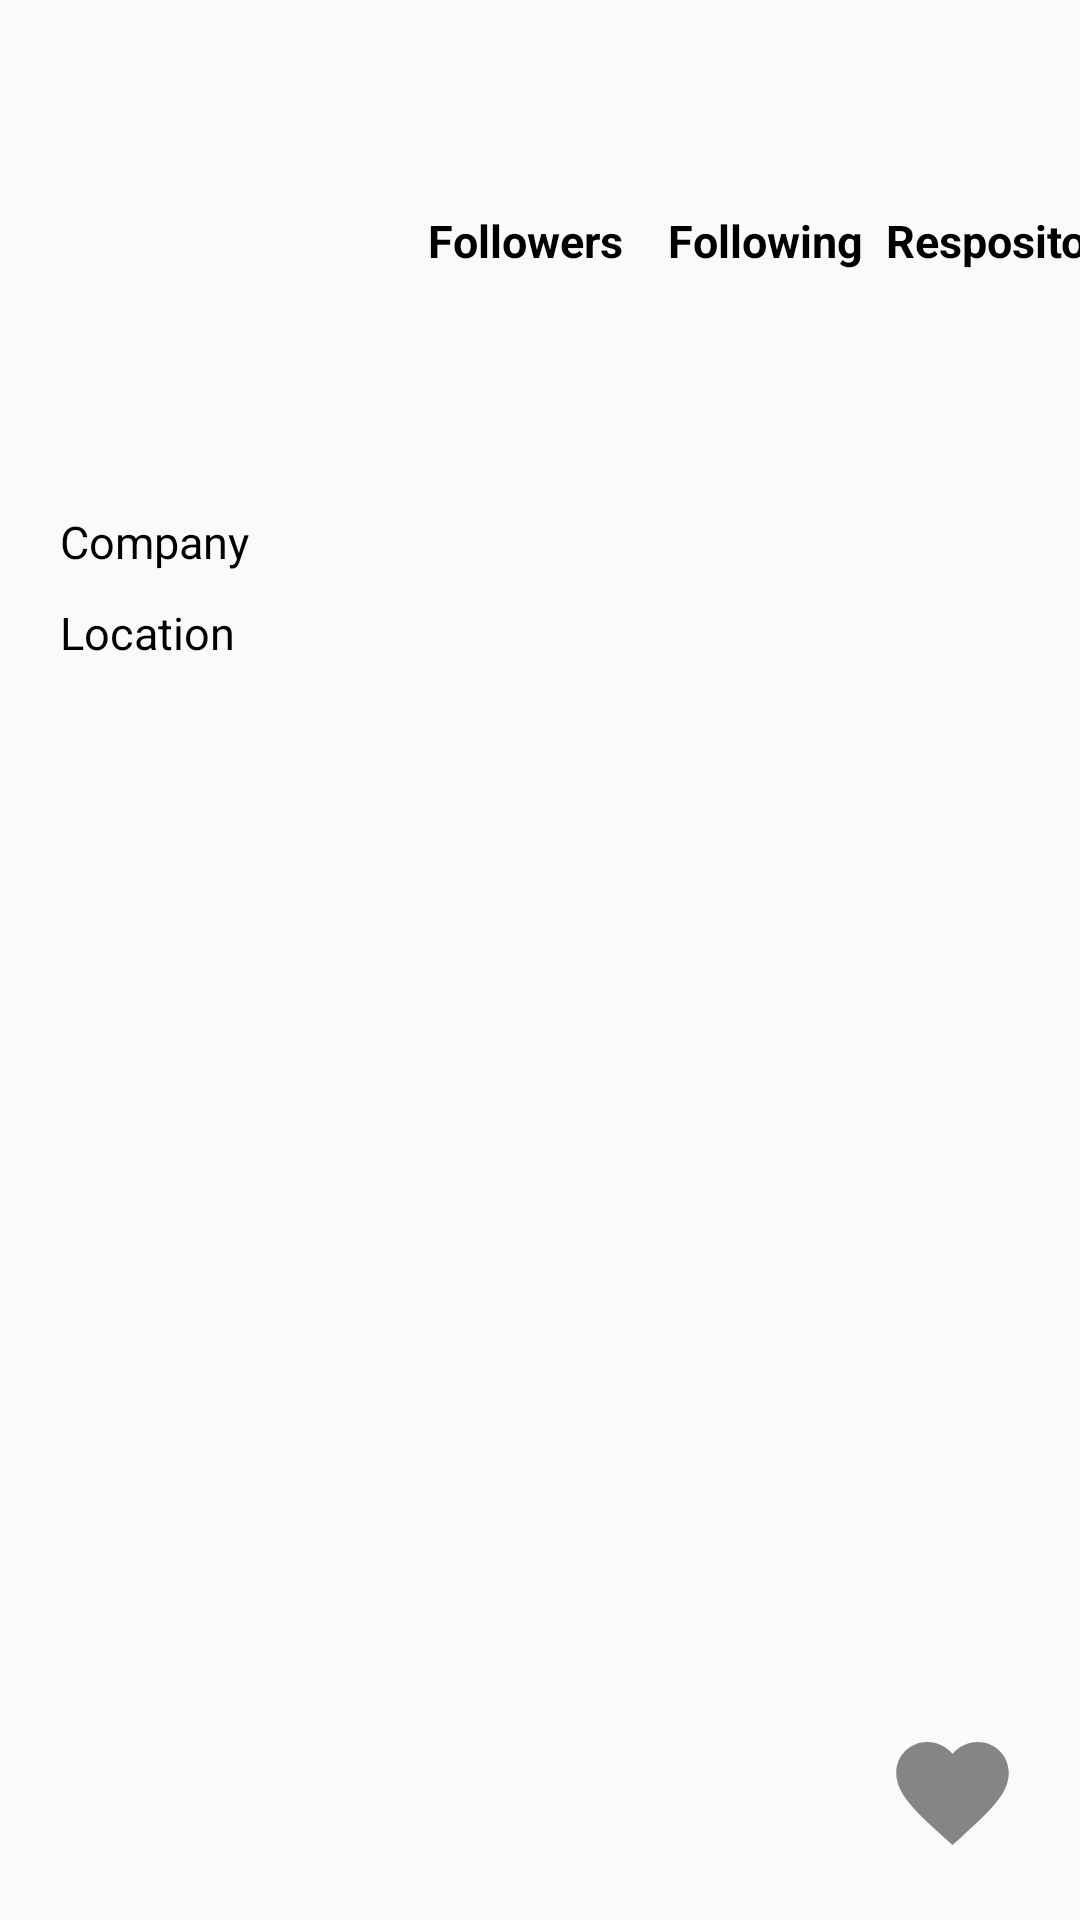

Icon click points for this 1080 x 1920 phone screenshot, format [x,y]:
favorit: [952,1793]
